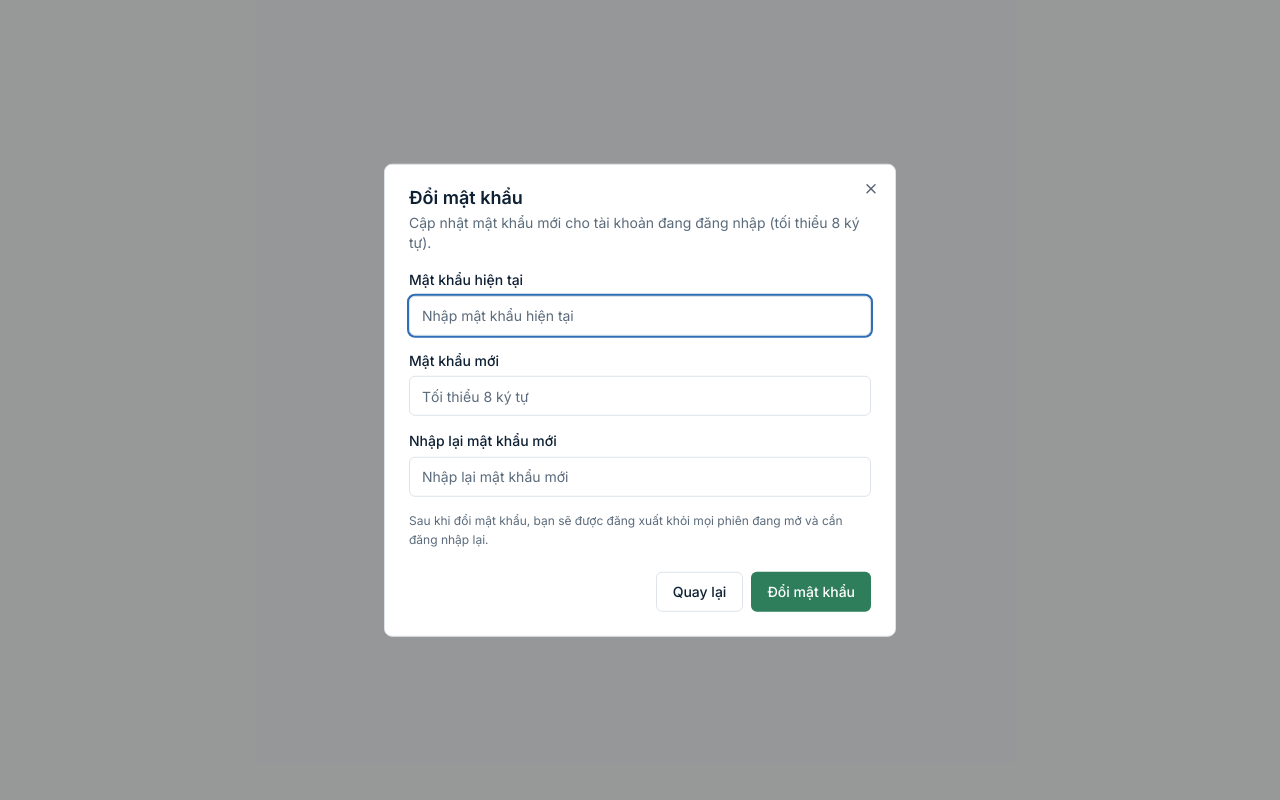
ChangePasswordDialog (T-020 AC6) › gán lỗi API 400 đúng ô mật khẩu hiện tại và không xóa token phiên đang mở
Type "sai123" into the password field labelled "Mật khẩu hiện tại" at (640, 315), box left=409, top=295, right=871, bottom=335
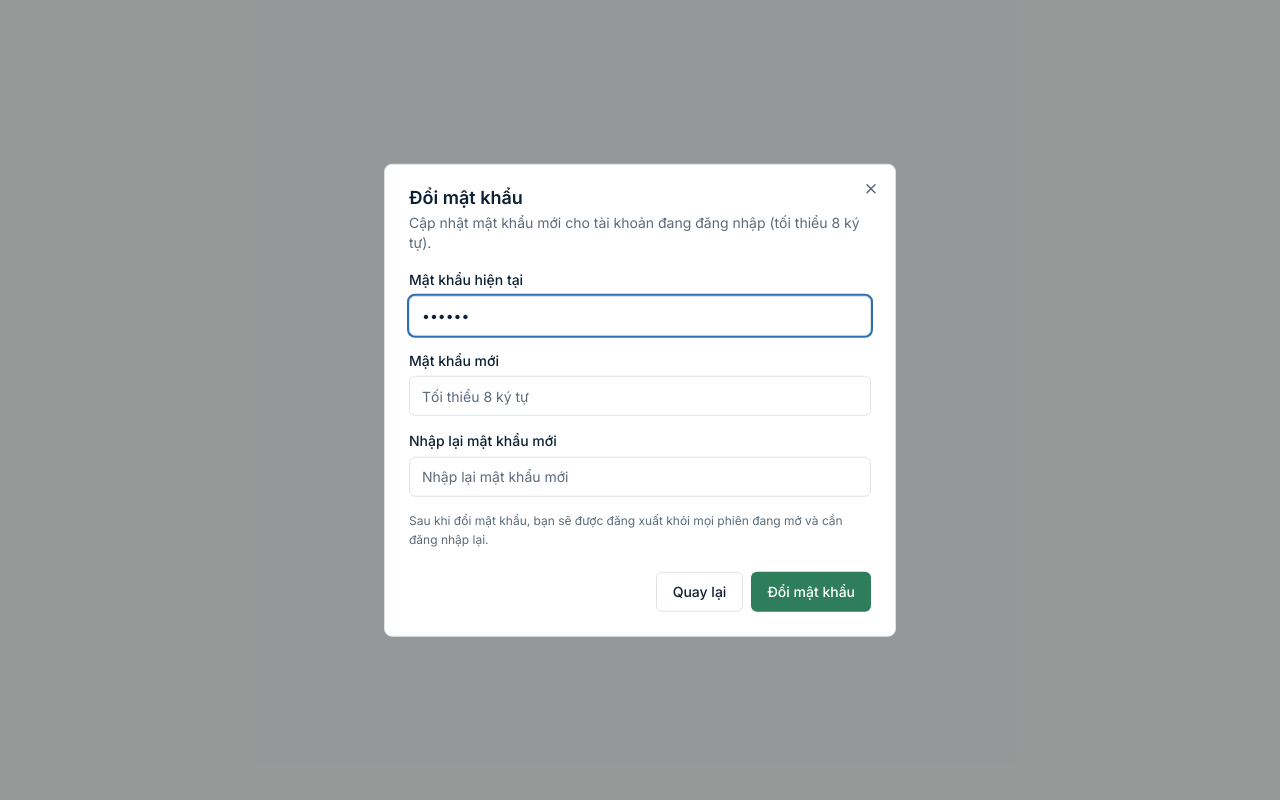
Type "MatKhauMoi2026" into the password field labelled "Mật khẩu mới" at (640, 396), box left=409, top=376, right=871, bottom=416
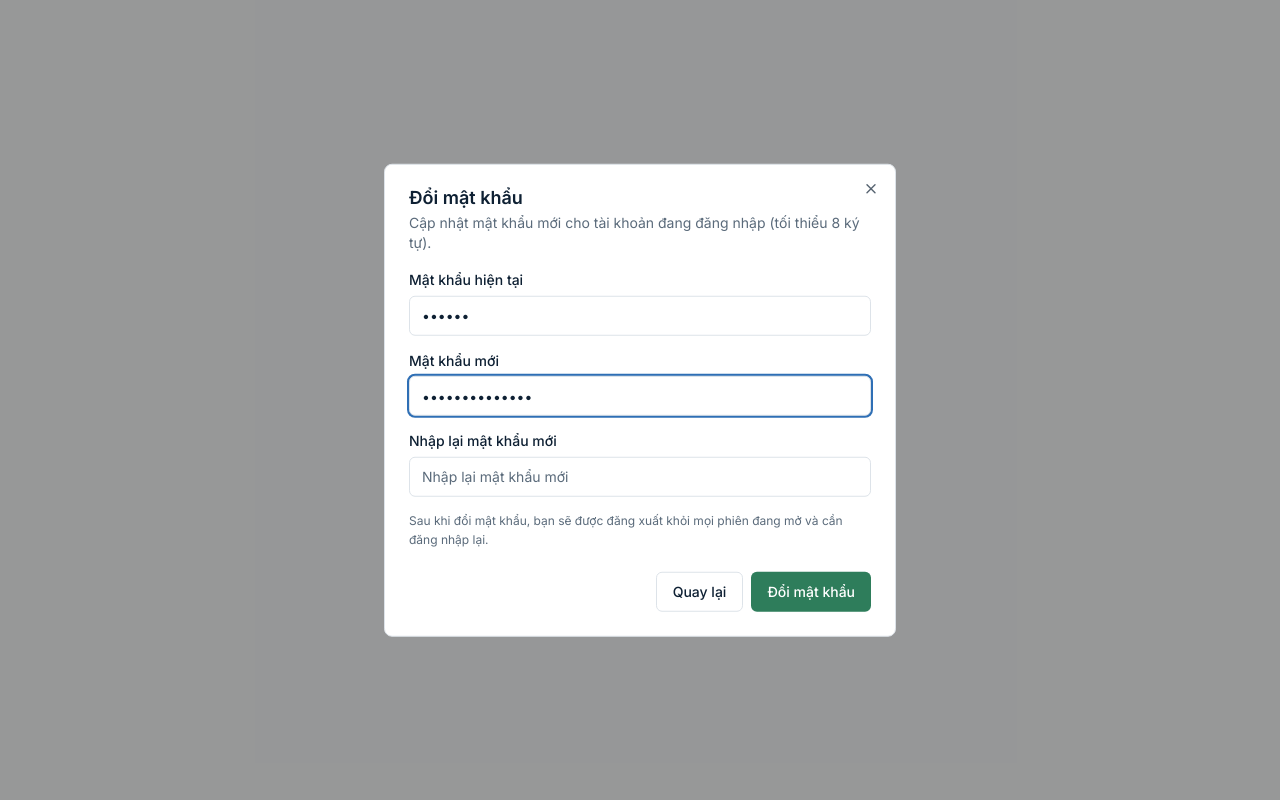
Type "MatKhauMoi2026" into the password field labelled "Nhập lại mật khẩu mới" at (640, 476), box left=409, top=456, right=871, bottom=496
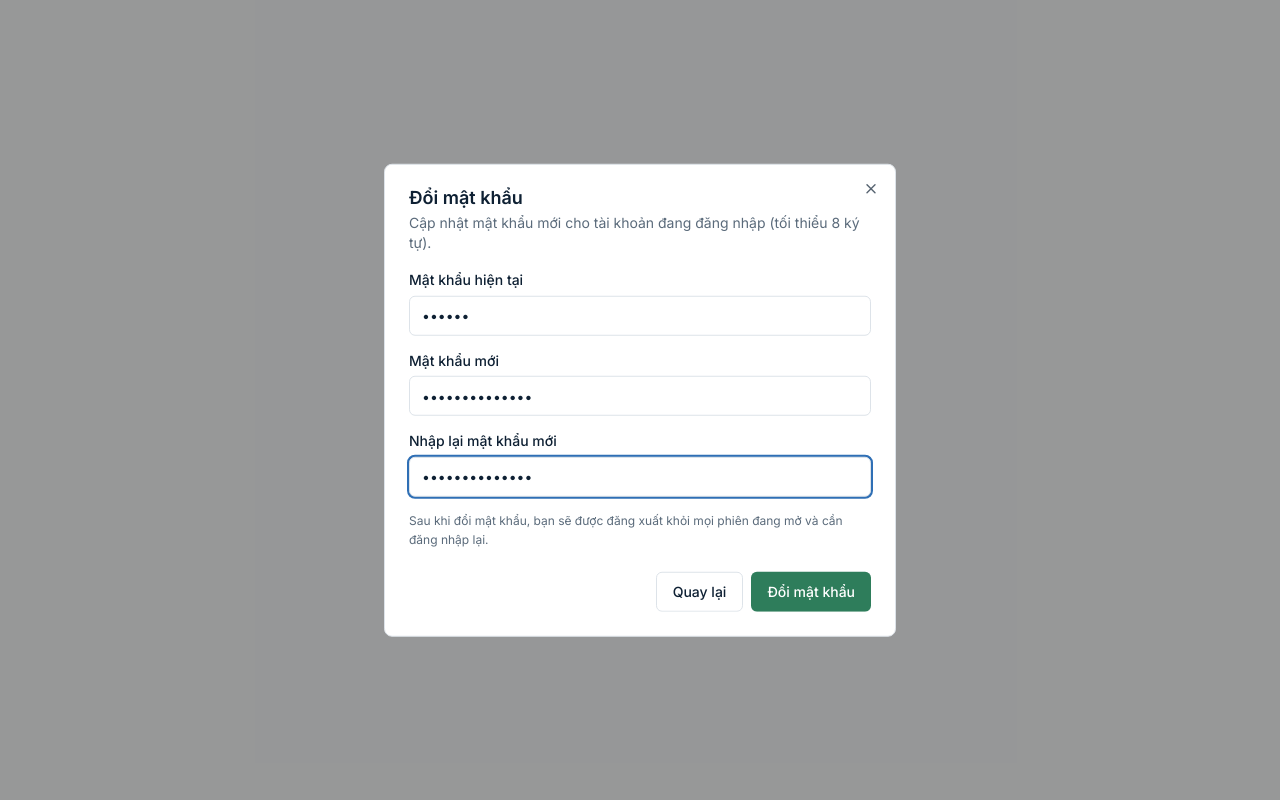
Click the button "Đổi mật khẩu" at (811, 591), box left=751, top=571, right=871, bottom=611
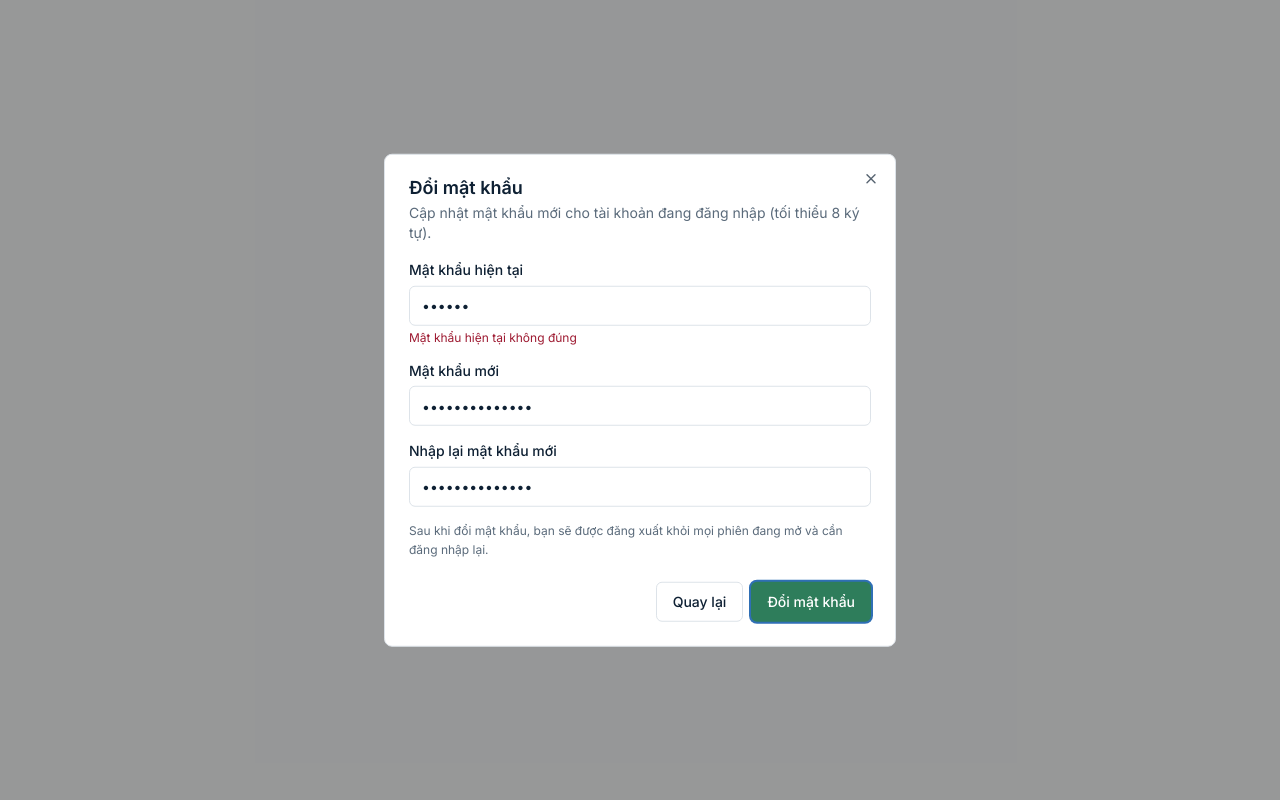
Now the text "Mật khẩu hiện tại không đúng" is shown, box left=409, top=329, right=577, bottom=344
